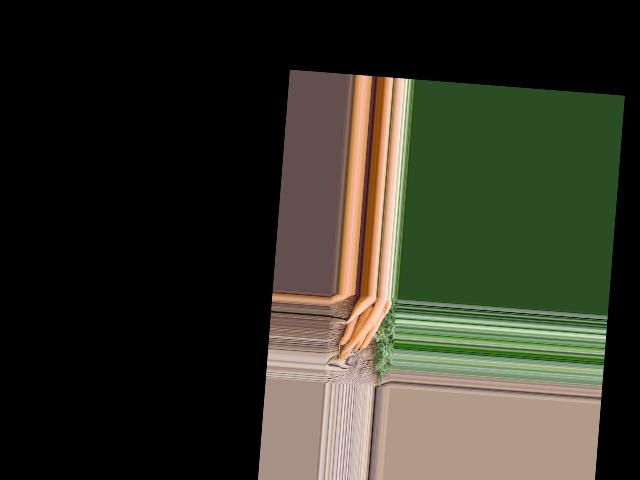carrot: (346, 295, 375, 324)
